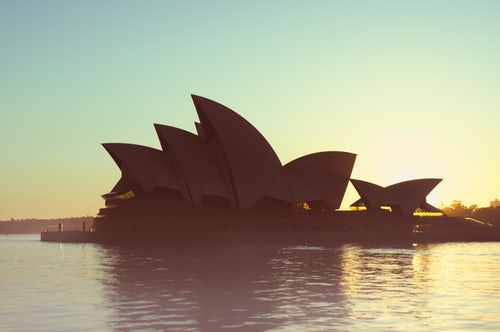opera house: (69, 64, 468, 239)
